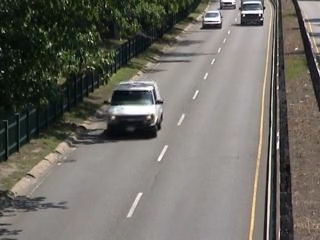car: (201, 10, 224, 31), (218, 1, 237, 11)
truck: (100, 79, 169, 139), (239, 1, 268, 28)
